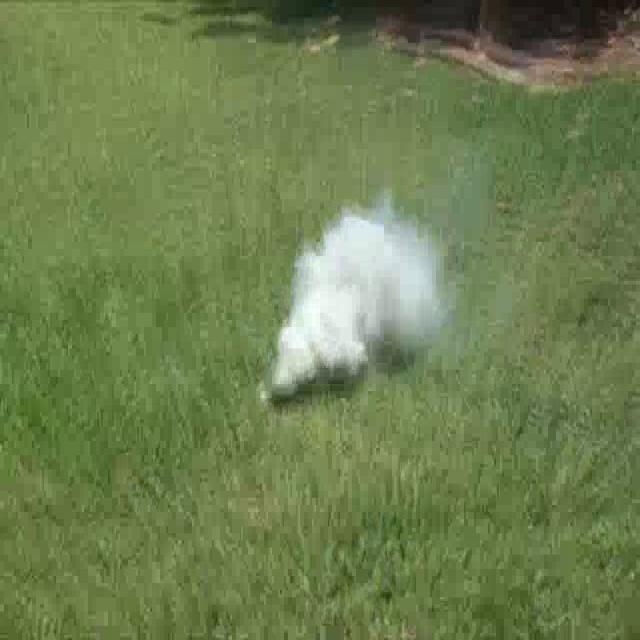Smoke: (255, 185, 452, 408)
